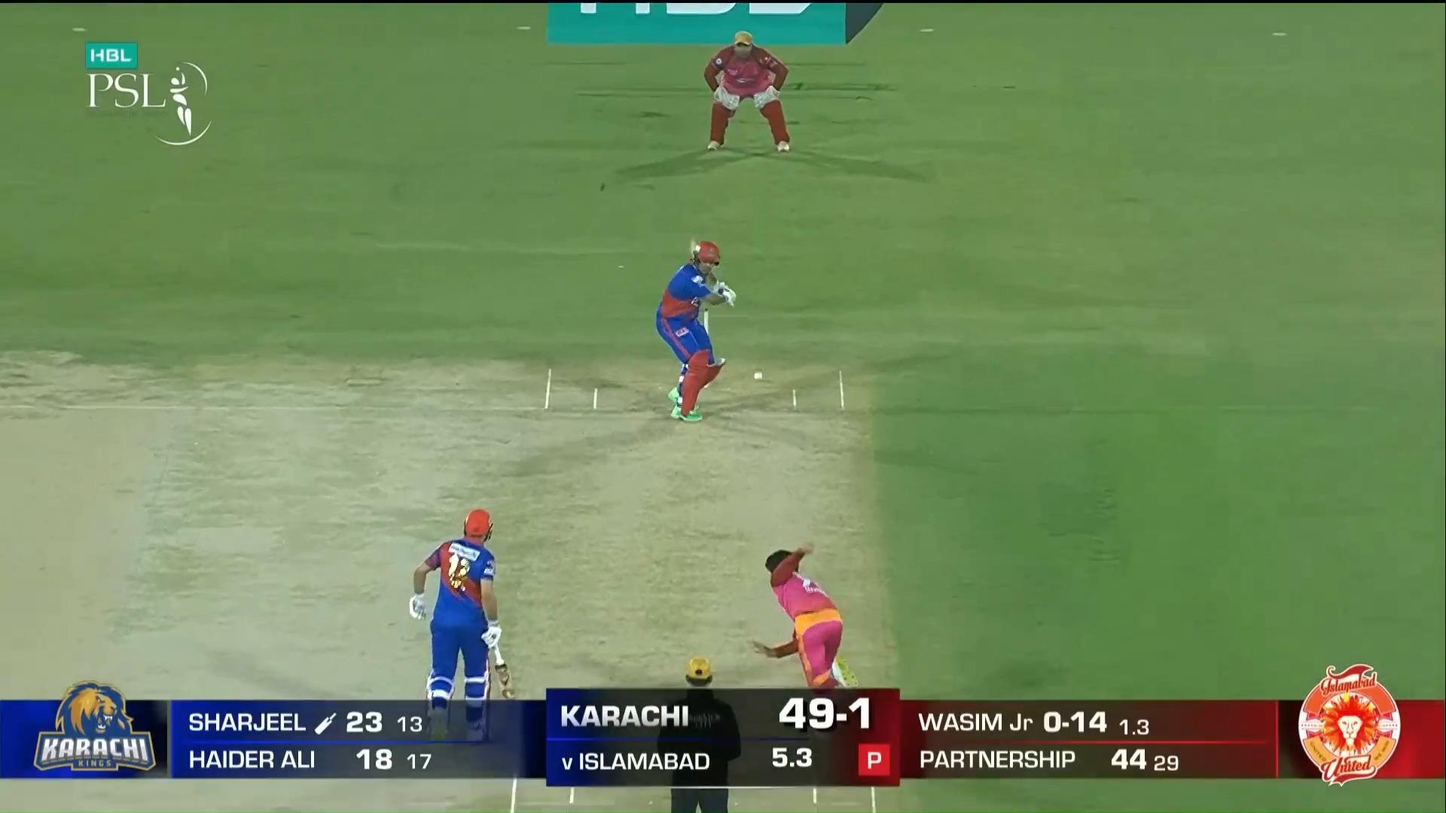batsman: (656, 237, 737, 423)
